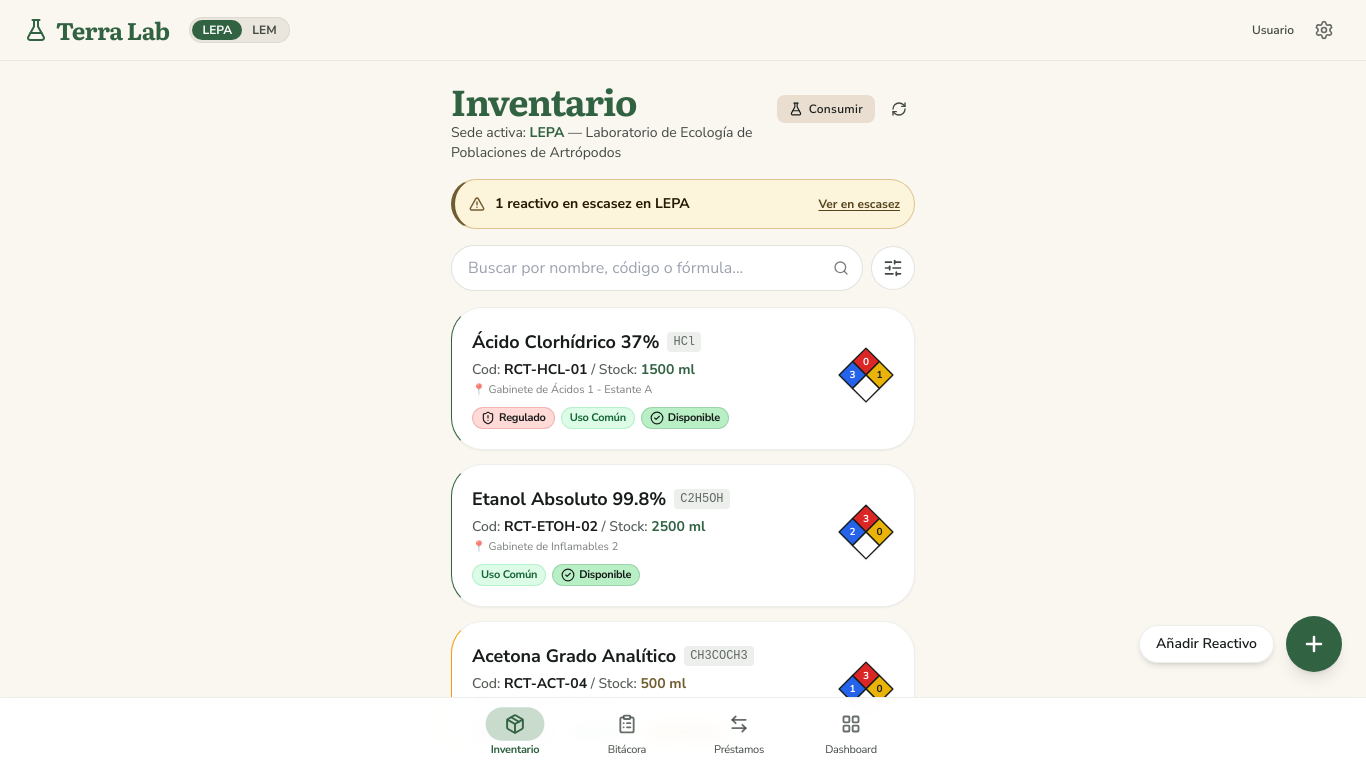
Test: InventoryView Component › opens stock modal when clicking Gestionar Stock in detail modal
Click the heading "Ácido Clorhídrico 37%": [566, 342] box [472,328,659,356]
(page scrolled)
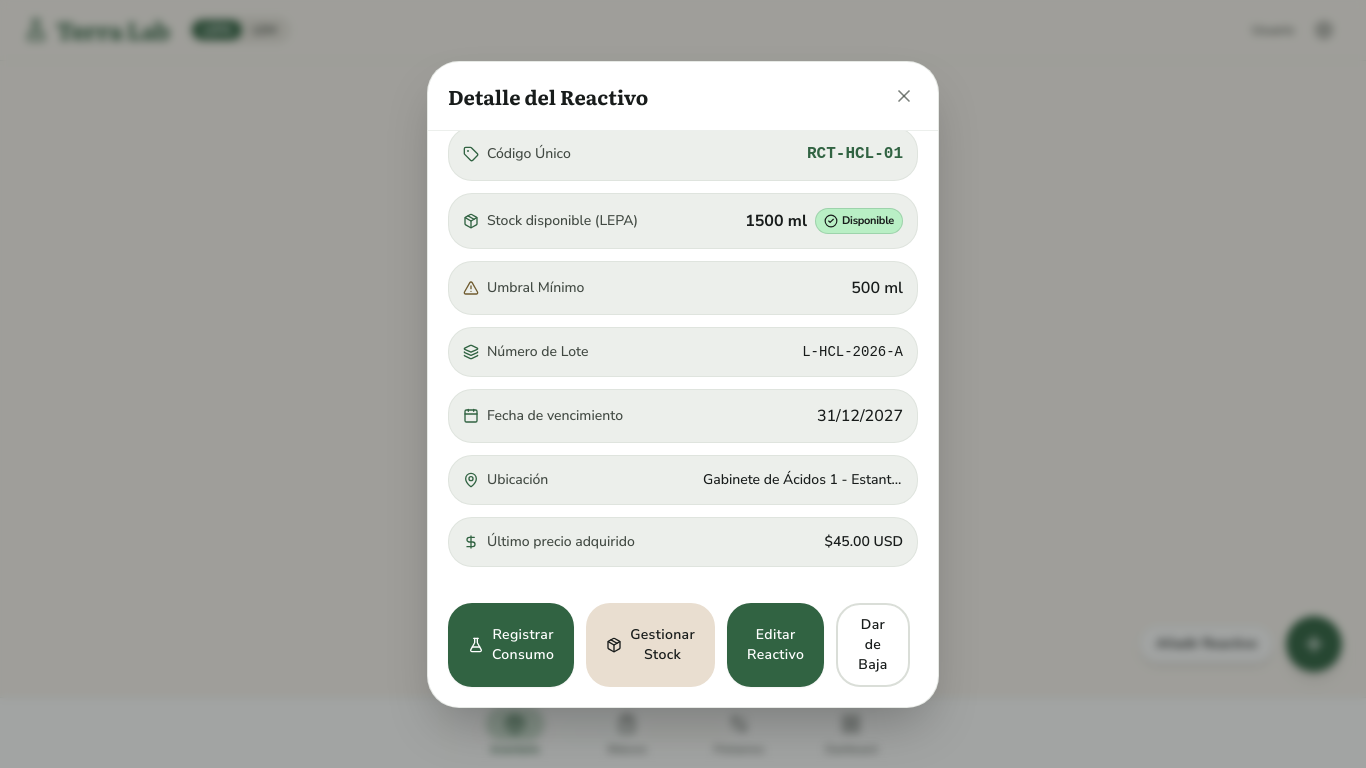
Click the button "Gestionar Stock": [651, 644] box [586,602,715,686]
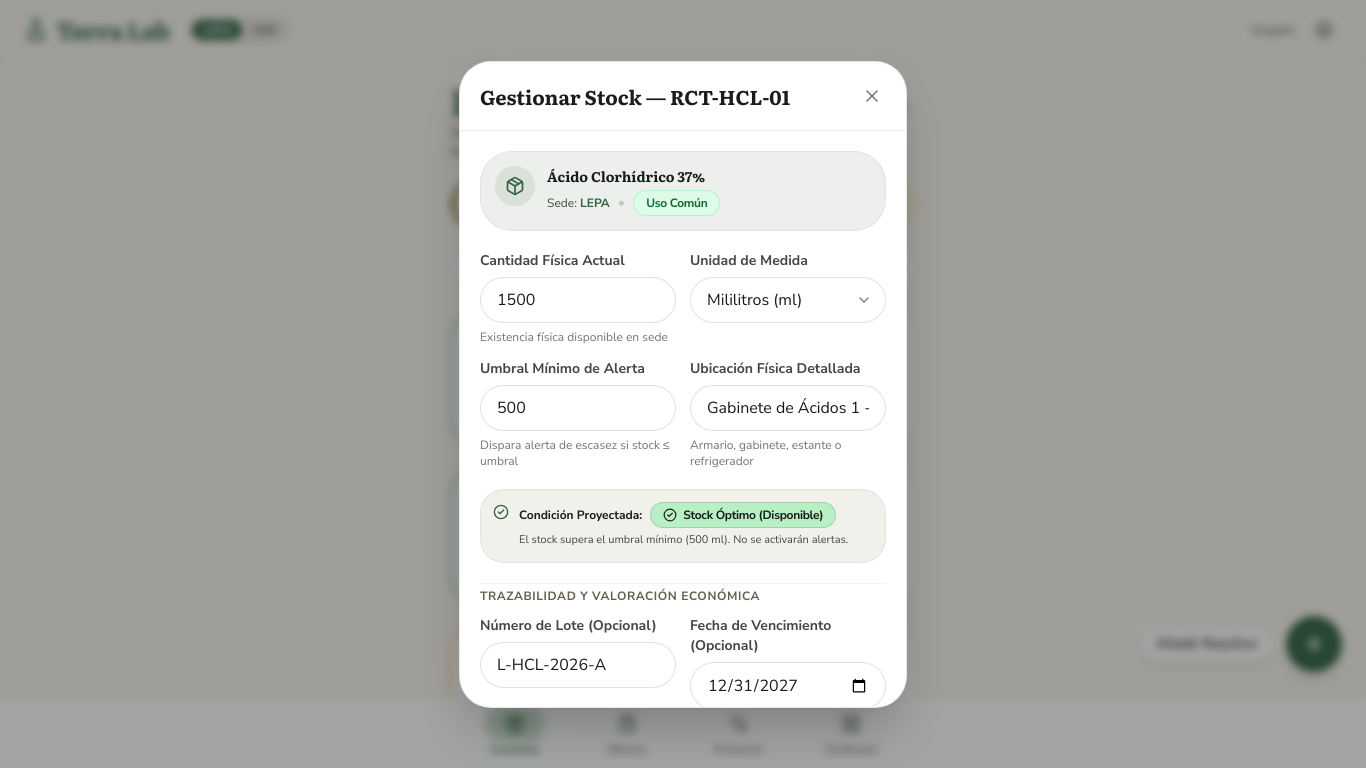
Check: the heading "Gestionar Stock — RCT-HCL-01" is shown, box [480,82,790,110]
Check: the number field labelled "Cantidad Física Actual" is shown, box [480,276,676,322]
